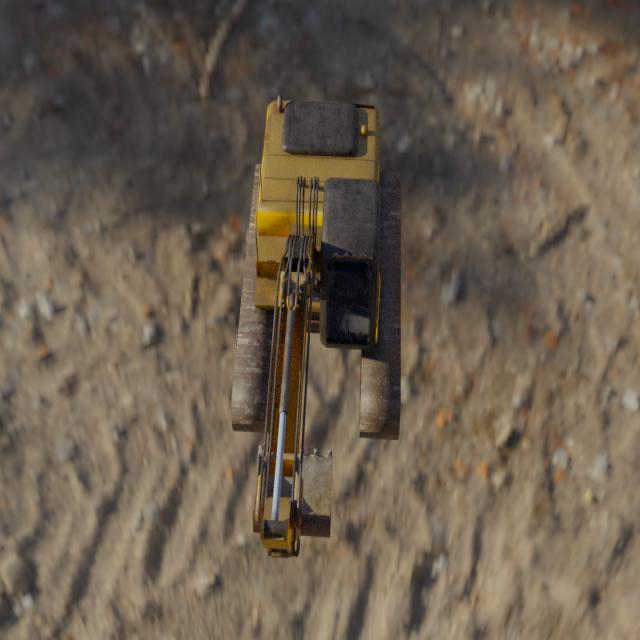excavator: (230, 94, 401, 558)
